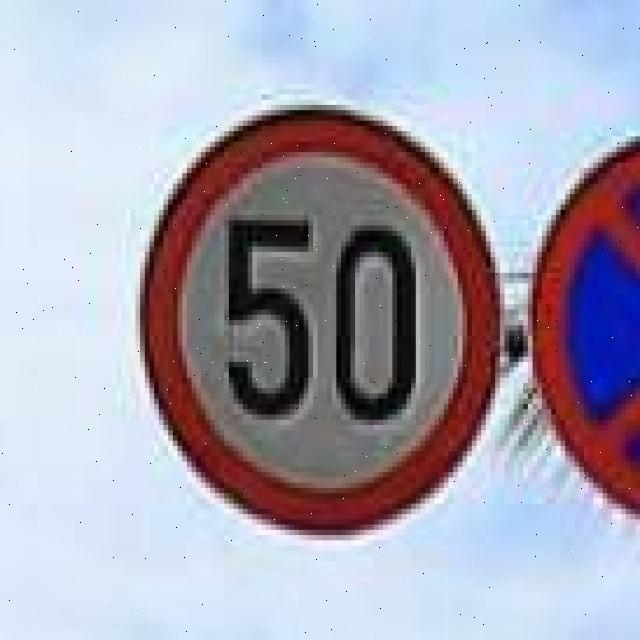speed limit 50: (135, 104, 500, 538)
